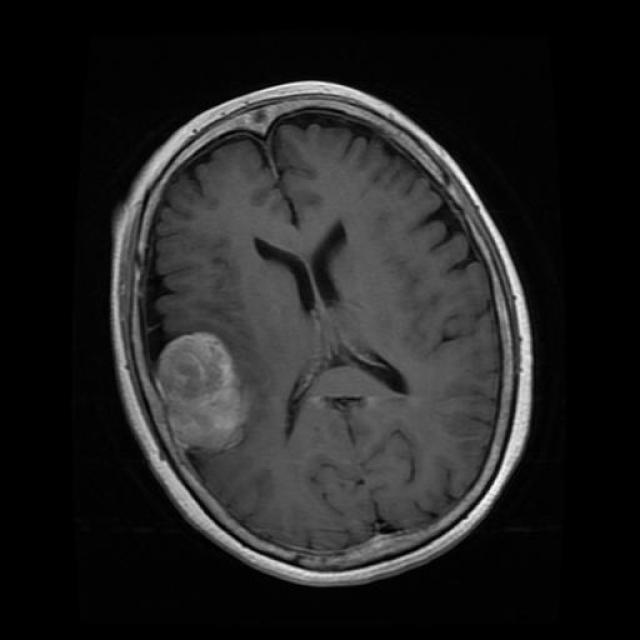Tumor: (154, 329, 255, 460)
